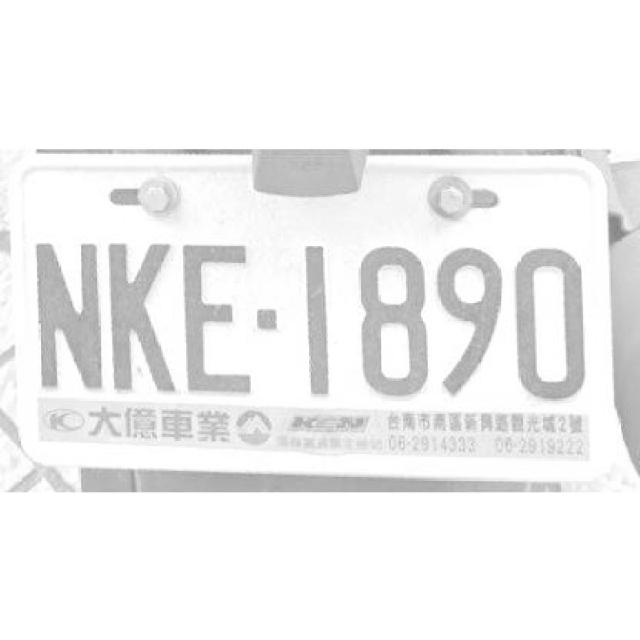-: (258, 306, 277, 329)
0: (512, 245, 586, 400)
1: (303, 241, 331, 394)
8: (357, 242, 429, 398)
9: (430, 242, 504, 396)
E: (180, 241, 251, 394)
K: (108, 240, 177, 391)
N: (36, 237, 104, 388)
